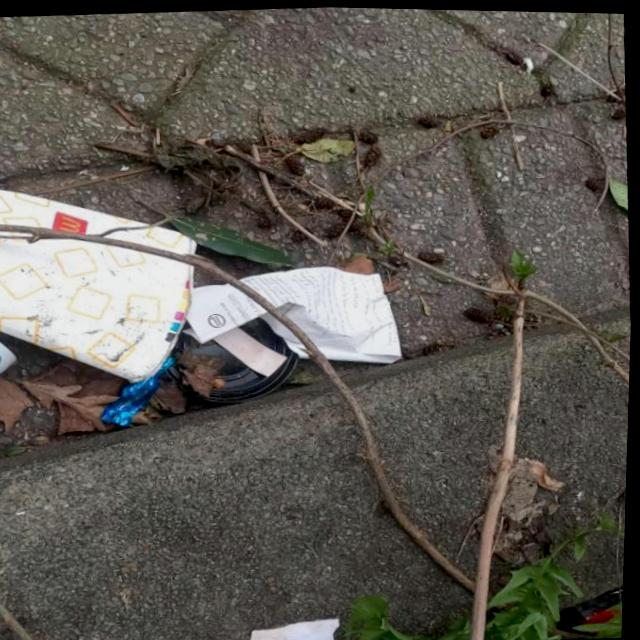Cup: (0, 175, 207, 390)
Paper: (184, 258, 408, 372), (250, 613, 346, 640)
Plastic: (99, 353, 181, 428)
